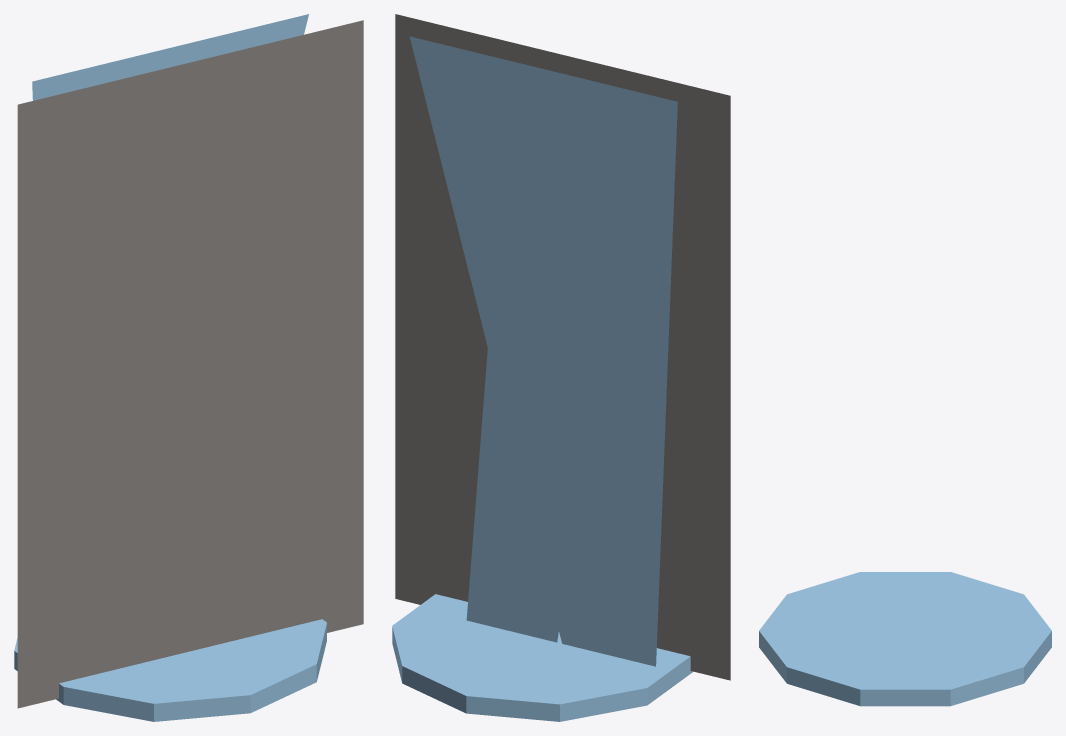
The model's file is lqv_lowpoly_waterfall.glb.
3 renders of one model, left to right at view 1: azimuth 30°, elevation 25°; view 2: azimuth 150°, elevation 25°; view 3: azimuth 270°, elevation 25°, orthographic. The views are drawn at different scales.
Visible parts, largest first — view 1: Waterfall_back, Splash_pool, Water_sheet_0, Water_sheet_1, Water_sheet_2; view 2: Waterfall_back, Water_sheet_0, Water_sheet_1, Water_sheet_2, Splash_pool; view 3: Splash_pool.
Boxes of the visible parts, <box> form: Waterfall_back: <box>17,20,363,708</box>; Splash_pool: <box>14,619,326,721</box>; Water_sheet_0: <box>167,14,308,67</box>; Water_sheet_1: <box>66,39,206,91</box>; Water_sheet_2: <box>32,48,169,100</box>; Waterfall_back: <box>395,14,730,680</box>; Water_sheet_0: <box>409,36,652,665</box>; Water_sheet_1: <box>466,61,644,642</box>; Water_sheet_2: <box>544,70,677,666</box>; Splash_pool: <box>392,594,692,721</box>; Splash_pool: <box>759,572,1051,706</box>.
Size of the model in its own units: 3 by 5.03 by 2.4.
